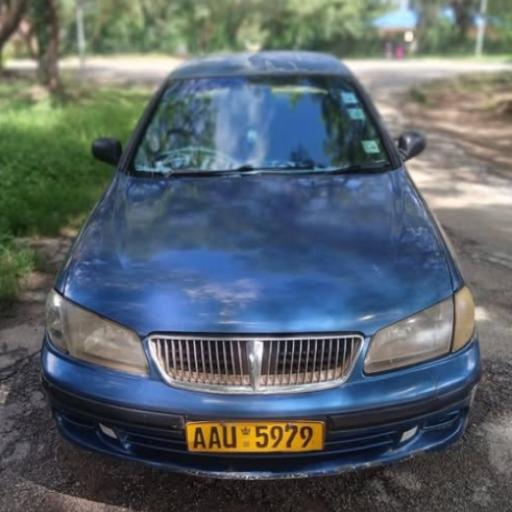number-plates: (186, 421, 318, 453)
